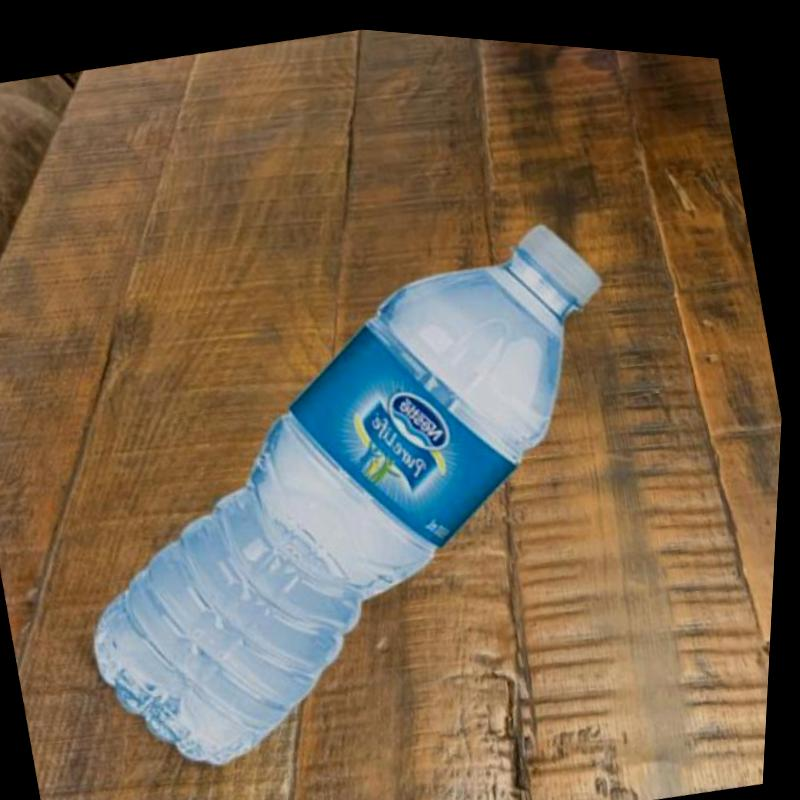botella: (12, 165, 702, 800)
